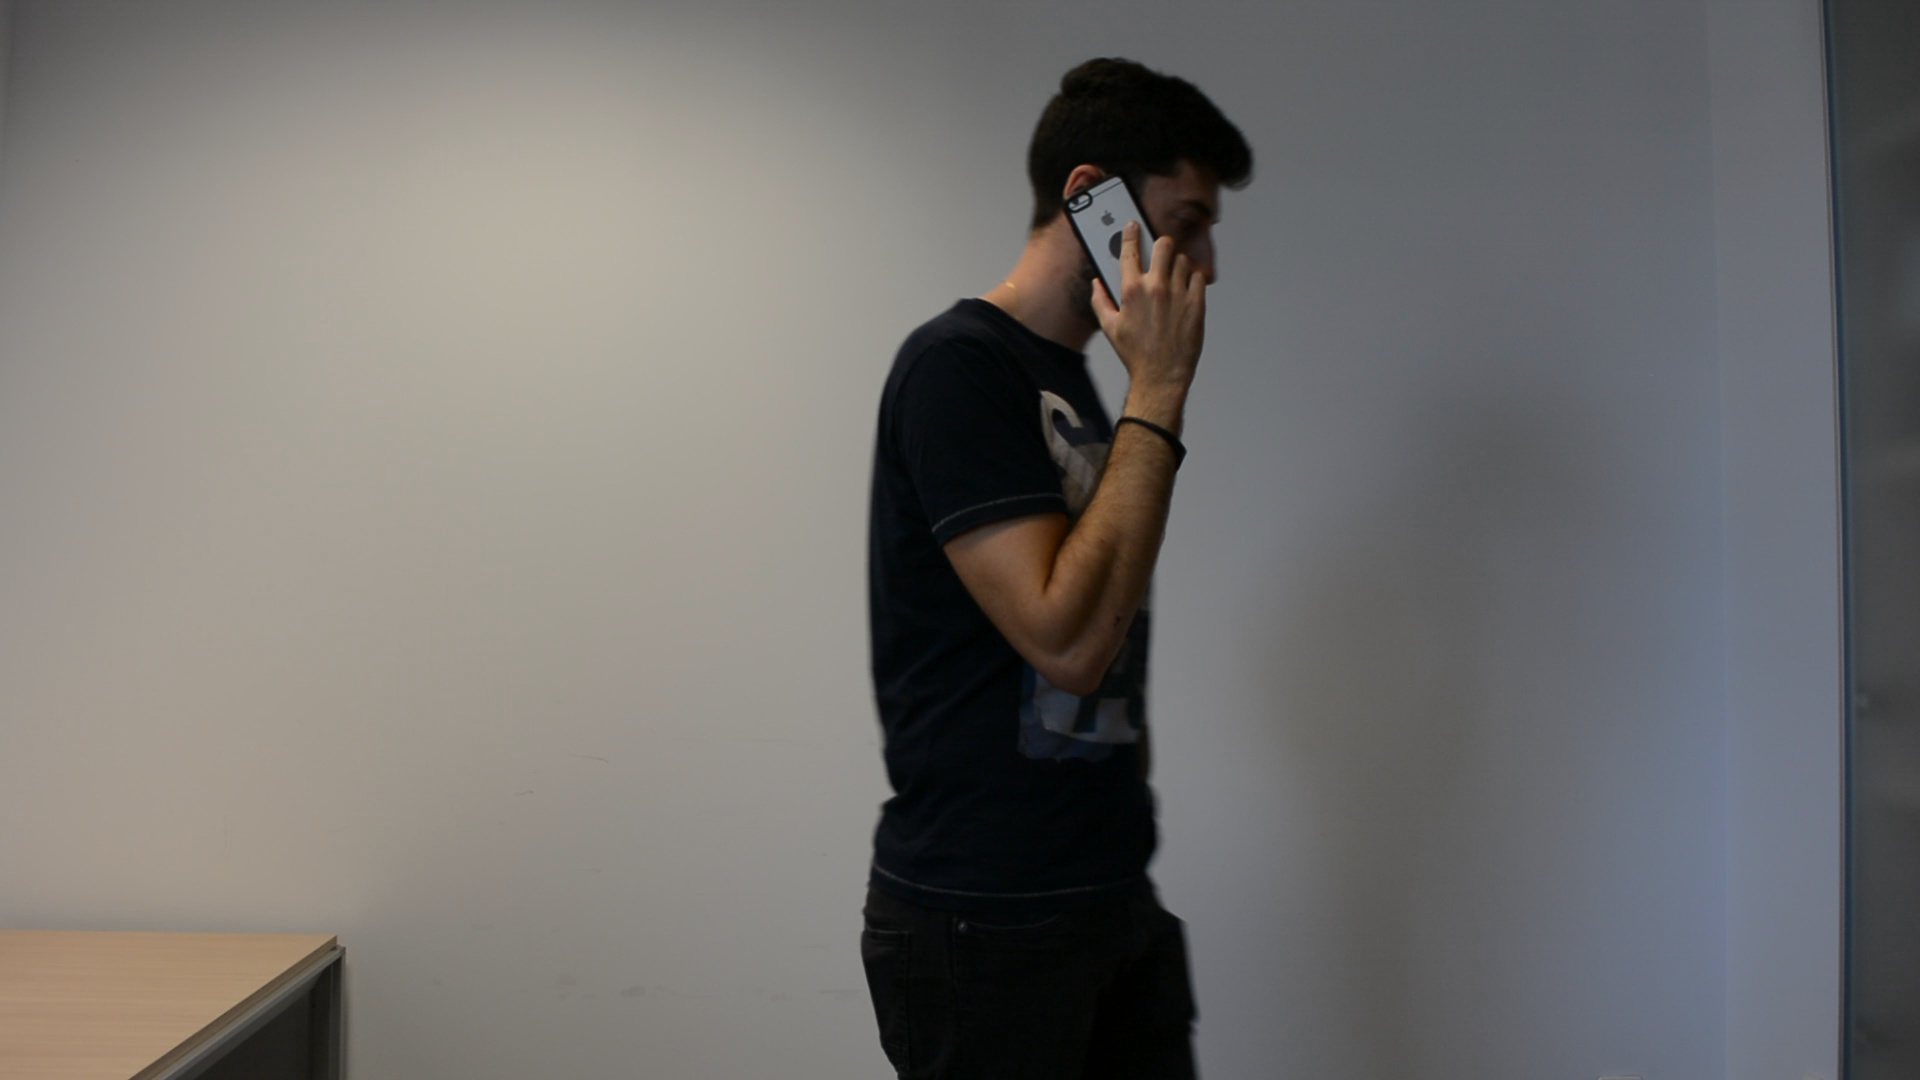smartphone: (1060, 171, 1167, 314)
